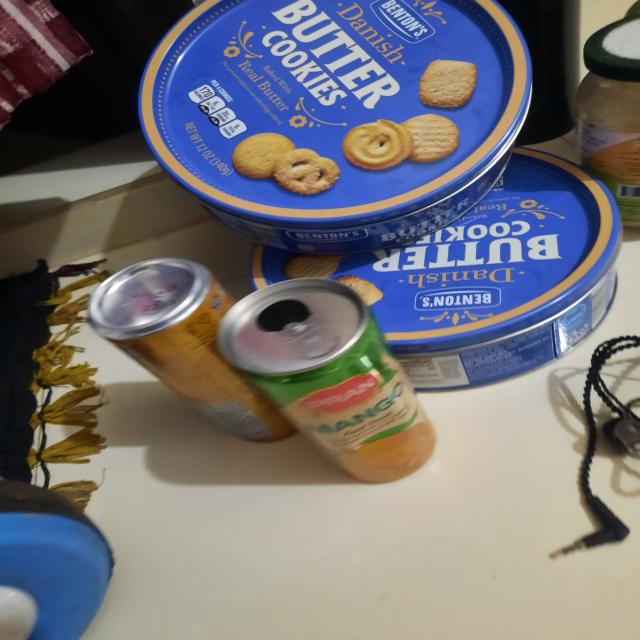can: (98, 0, 596, 480)
